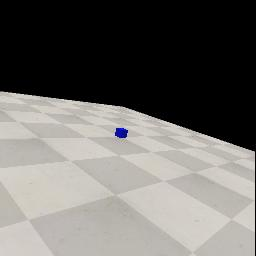box: (115, 128, 128, 138)
